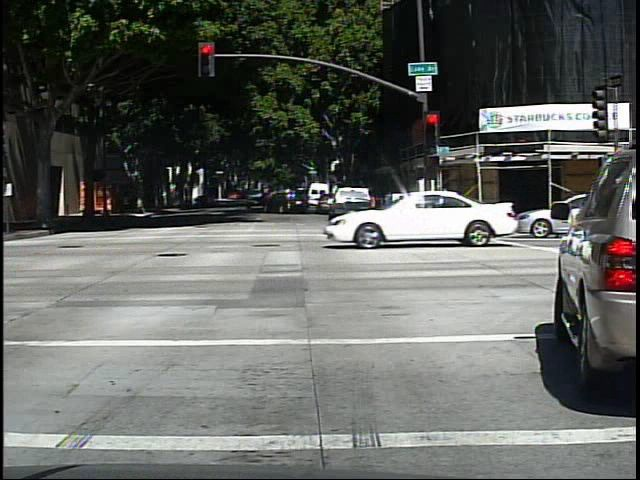person: (80, 186, 96, 220)
